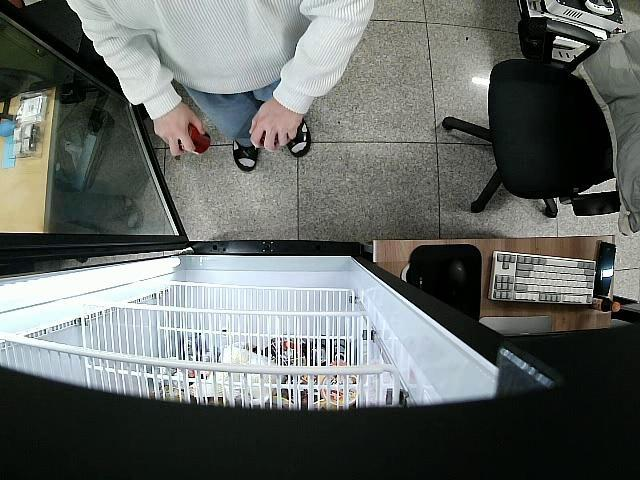11_cocaColaZero: (170, 123, 210, 154)
